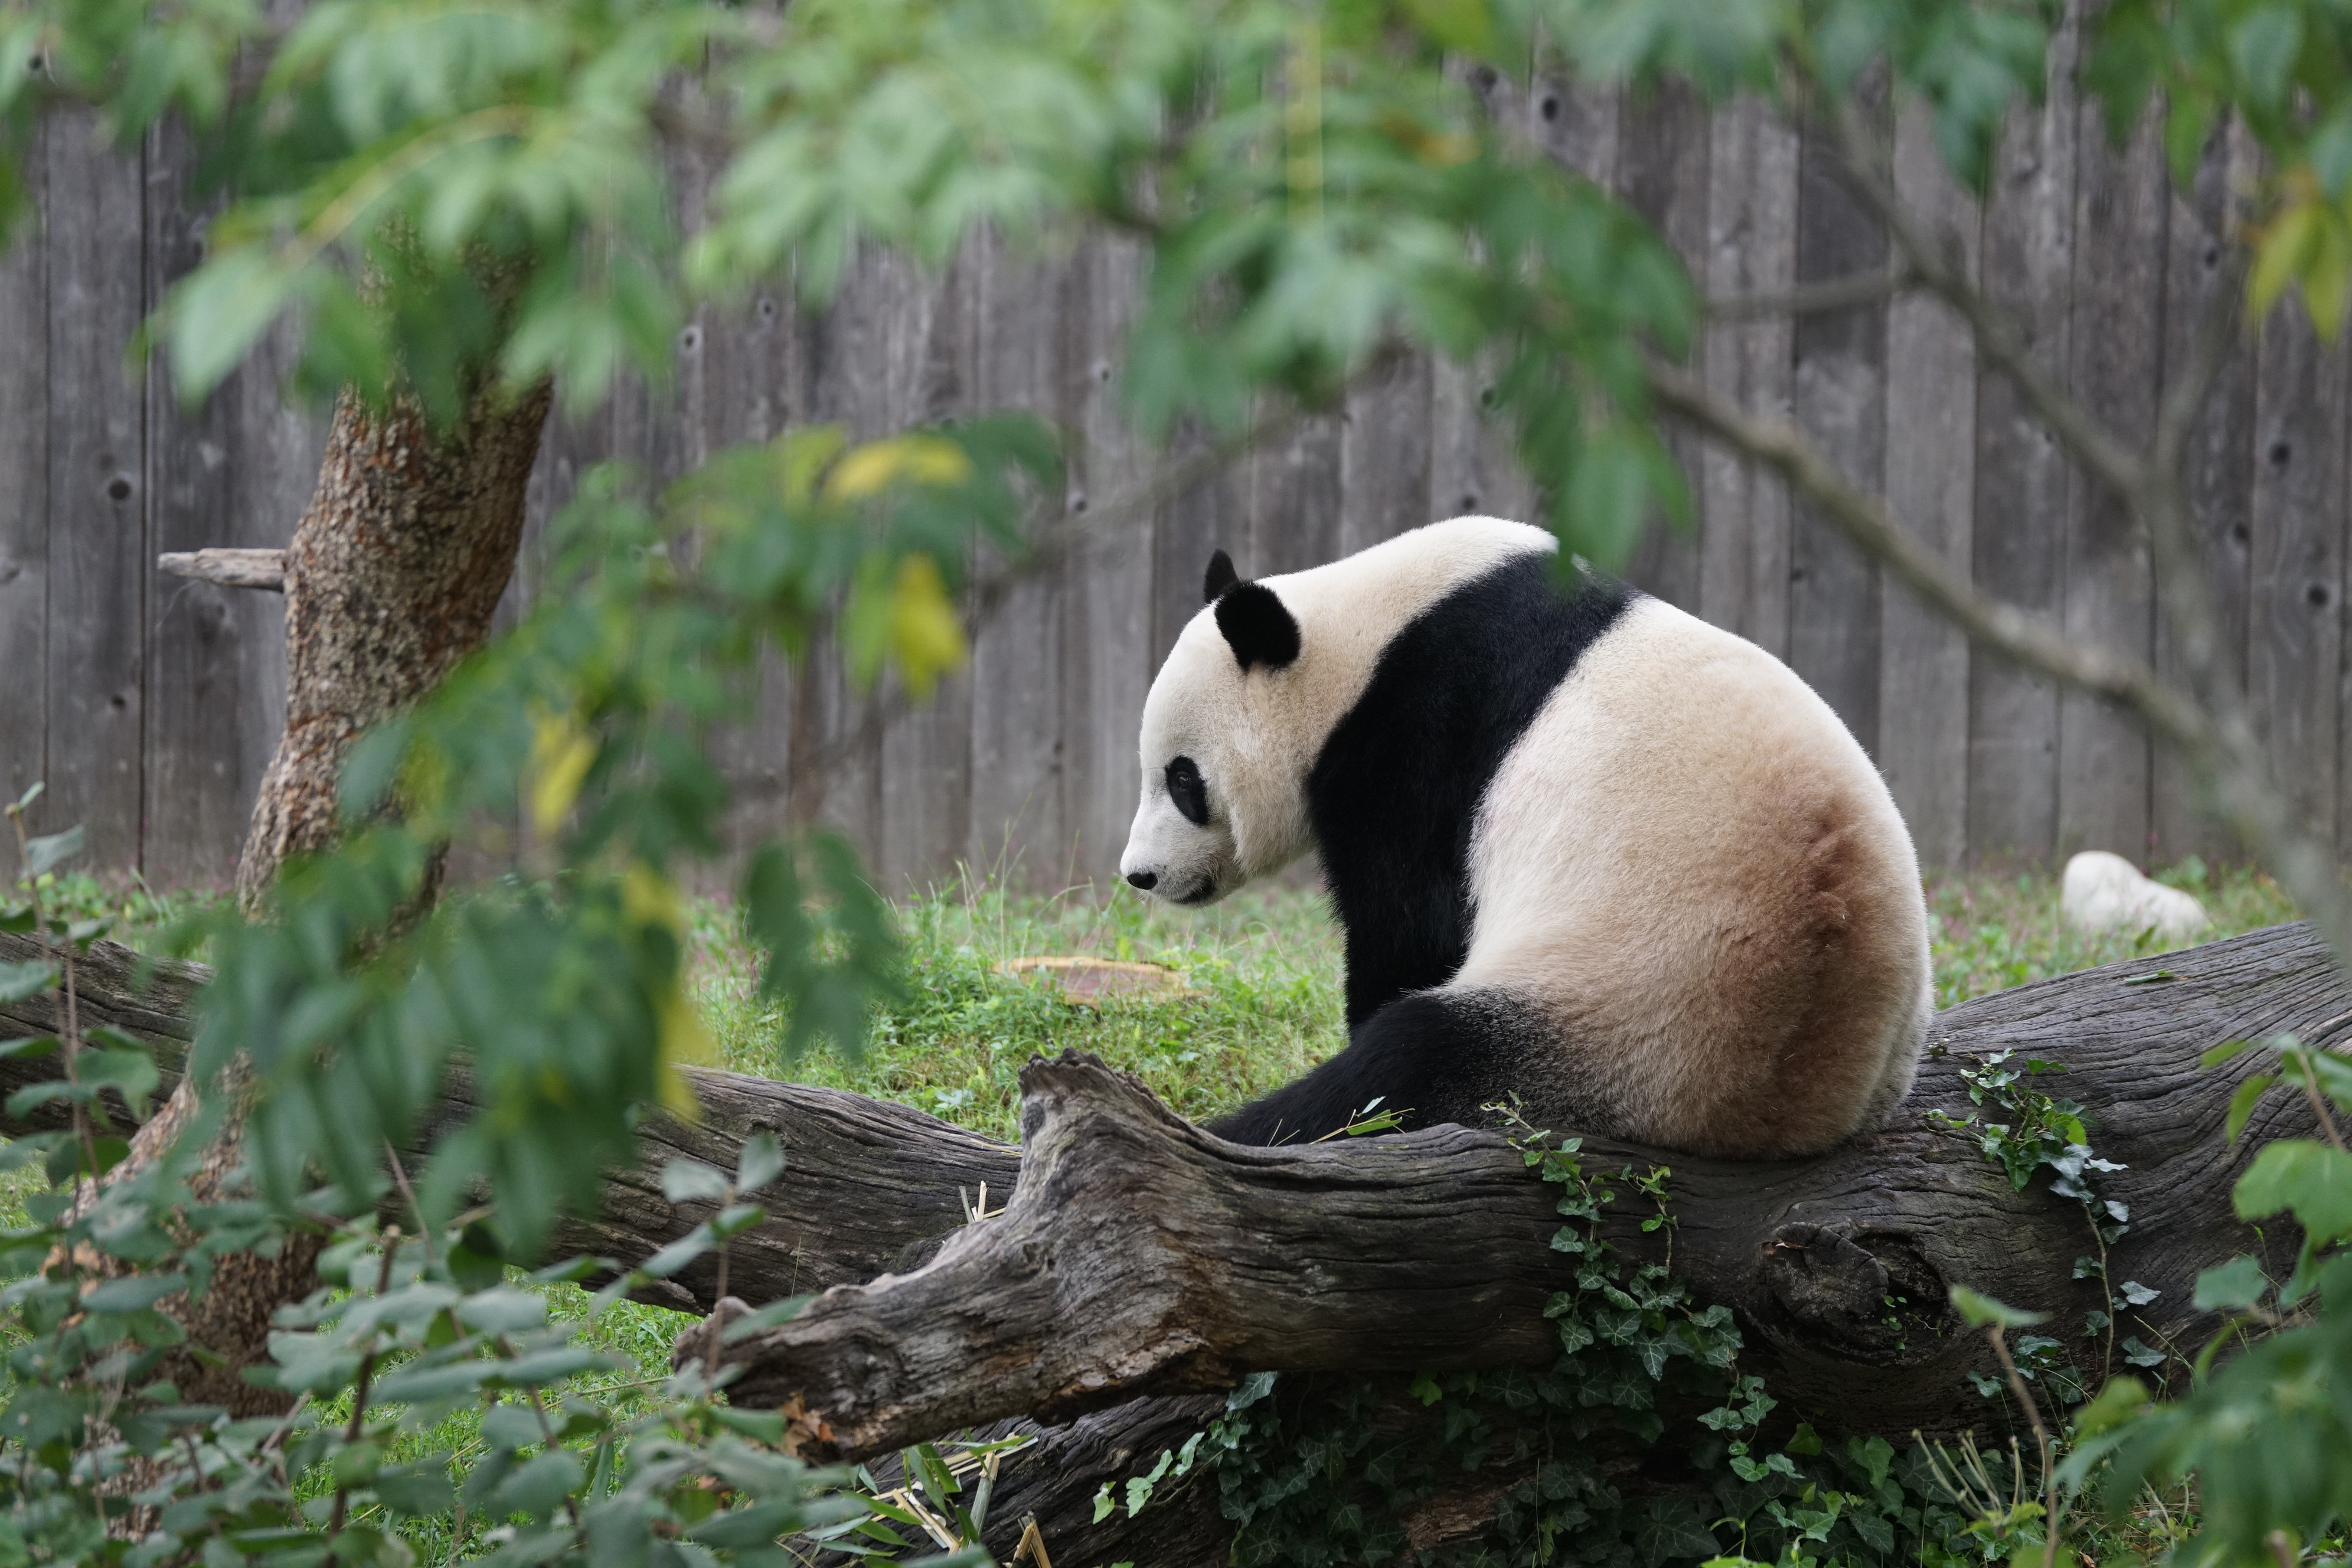panda: (1003, 460, 2041, 1244)
